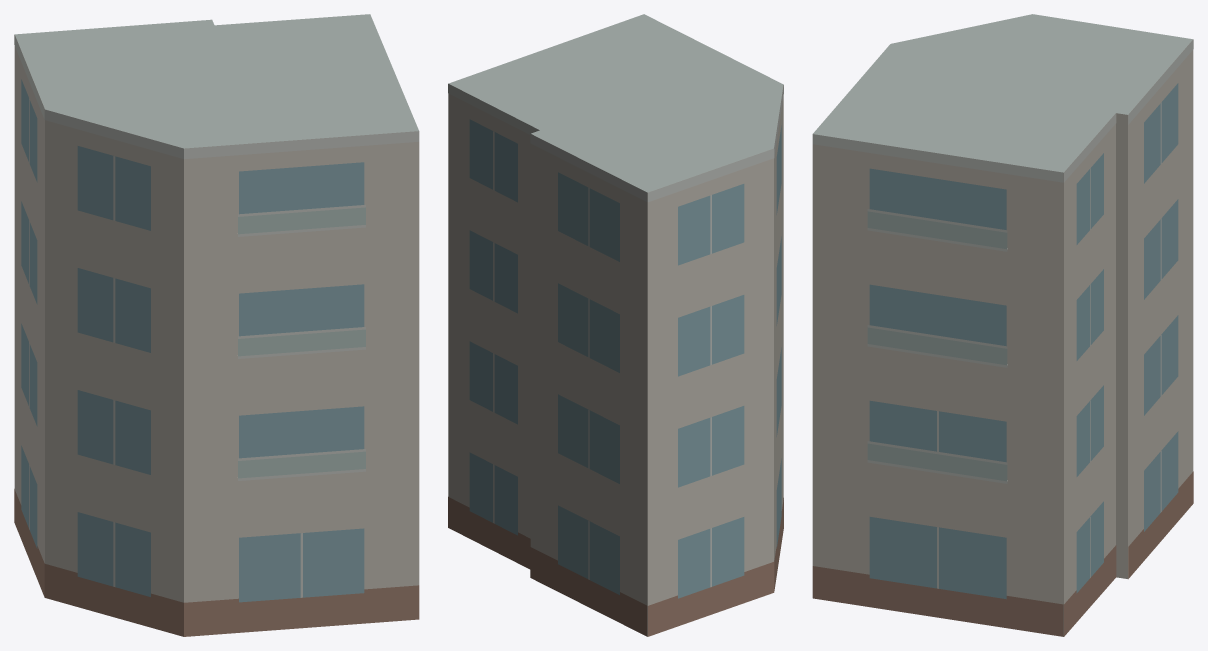
The model's file is survey-upis-32936350.glb.
3 renders of one model, left to right at view 1: azimuth 30°, elevation 25°; view 2: azimuth 150°, elevation 25°; view 3: azimuth 270°, elevation 25°, orthographic. The views are drawn at different scales.
Parts seen in each view (by area): view 1: survey-upis-32936350.tmp; view 2: survey-upis-32936350.tmp; view 3: survey-upis-32936350.tmp.
Part boxes in pixels (x1,y1,x2,y2): survey-upis-32936350.tmp: (14,14,419,636); survey-upis-32936350.tmp: (448,14,783,636); survey-upis-32936350.tmp: (812,14,1193,636).
Bounding box in the file's own units: 8.18 × 11.15 × 8.3.
